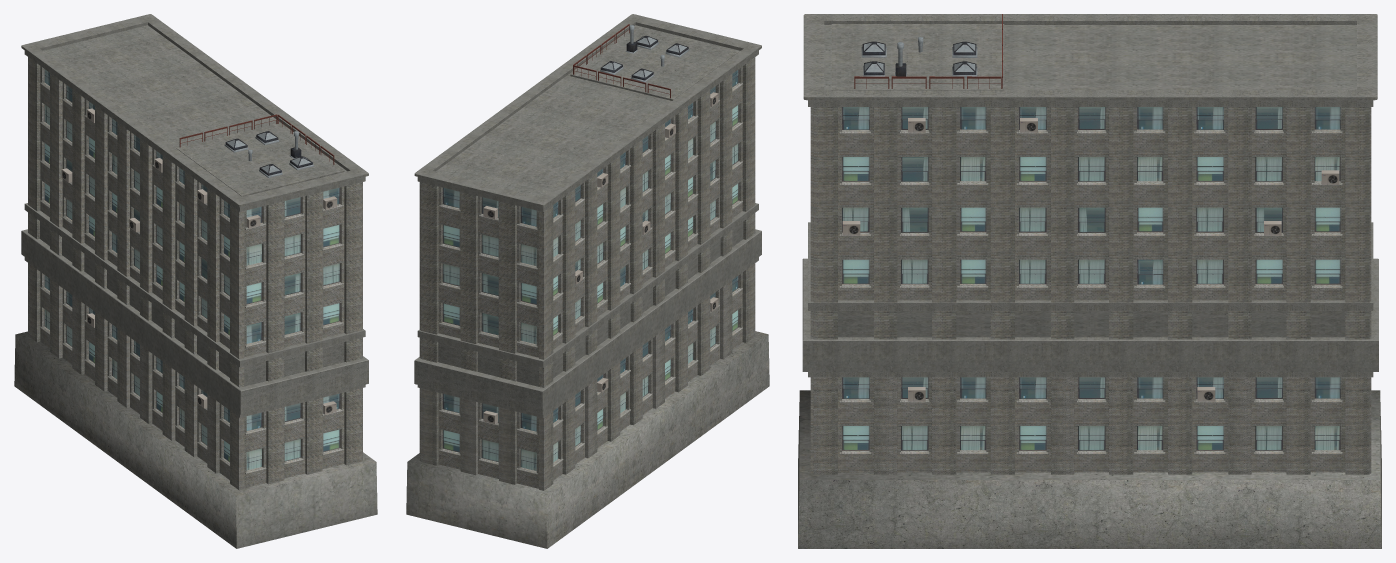
File: u2NWBuild9.gltf
3 views of the same model, side by side, from view 1: azimuth 30°, elevation 25°; view 2: azimuth 150°, elevation 25°; view 3: azimuth 270°, elevation 25° (orthographic). The views are drawn at different scales.
Parts seen in each view (by area): view 1: u2NWBuild9; view 2: u2NWBuild9; view 3: u2NWBuild9.
Part boxes in pixels (x1,y1,x2,y2): u2NWBuild9: [14, 14, 377, 548]; u2NWBuild9: [406, 14, 769, 548]; u2NWBuild9: [798, 14, 1381, 548].
Size of the model in its own units: 4.32 by 10.68 by 11.79.
13 materials, 13 textured.
